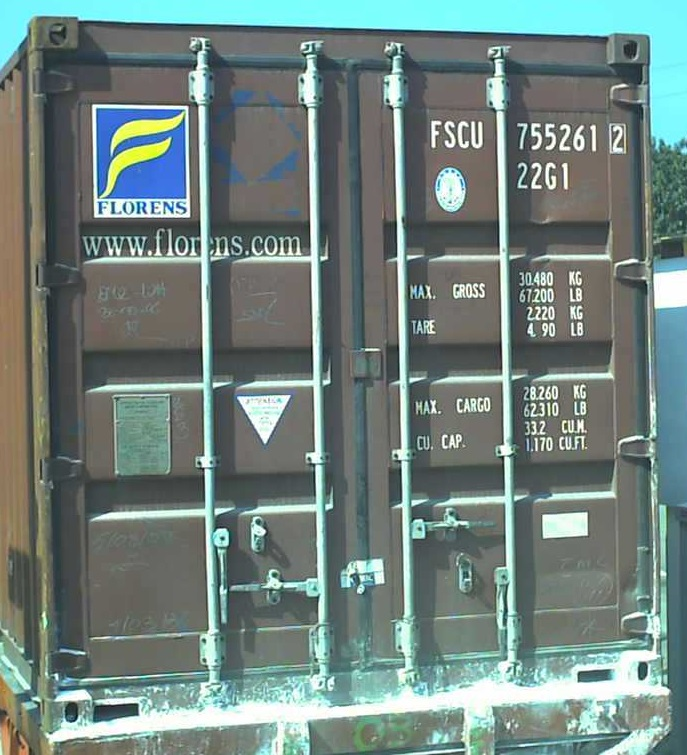container_door: (25, 11, 666, 732)
